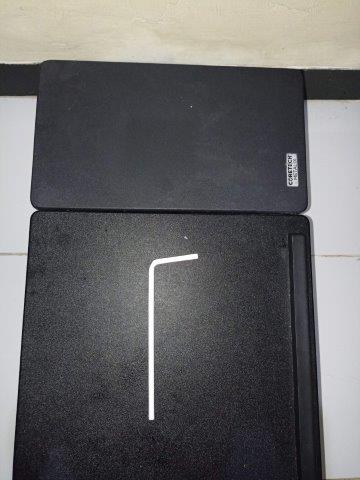sedotan: (148, 253, 198, 420)
